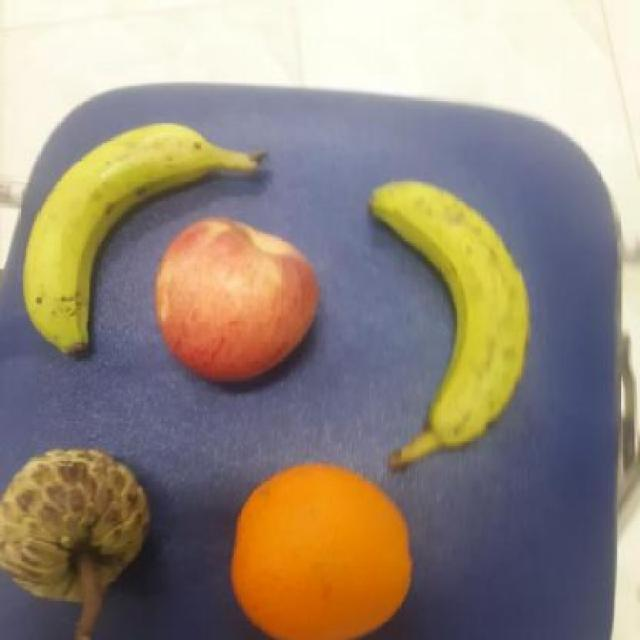apple: (152, 210, 323, 392)
banana: (360, 169, 538, 457), (19, 111, 210, 357)
oren: (217, 461, 414, 640)
sugar apple: (0, 441, 155, 606)
